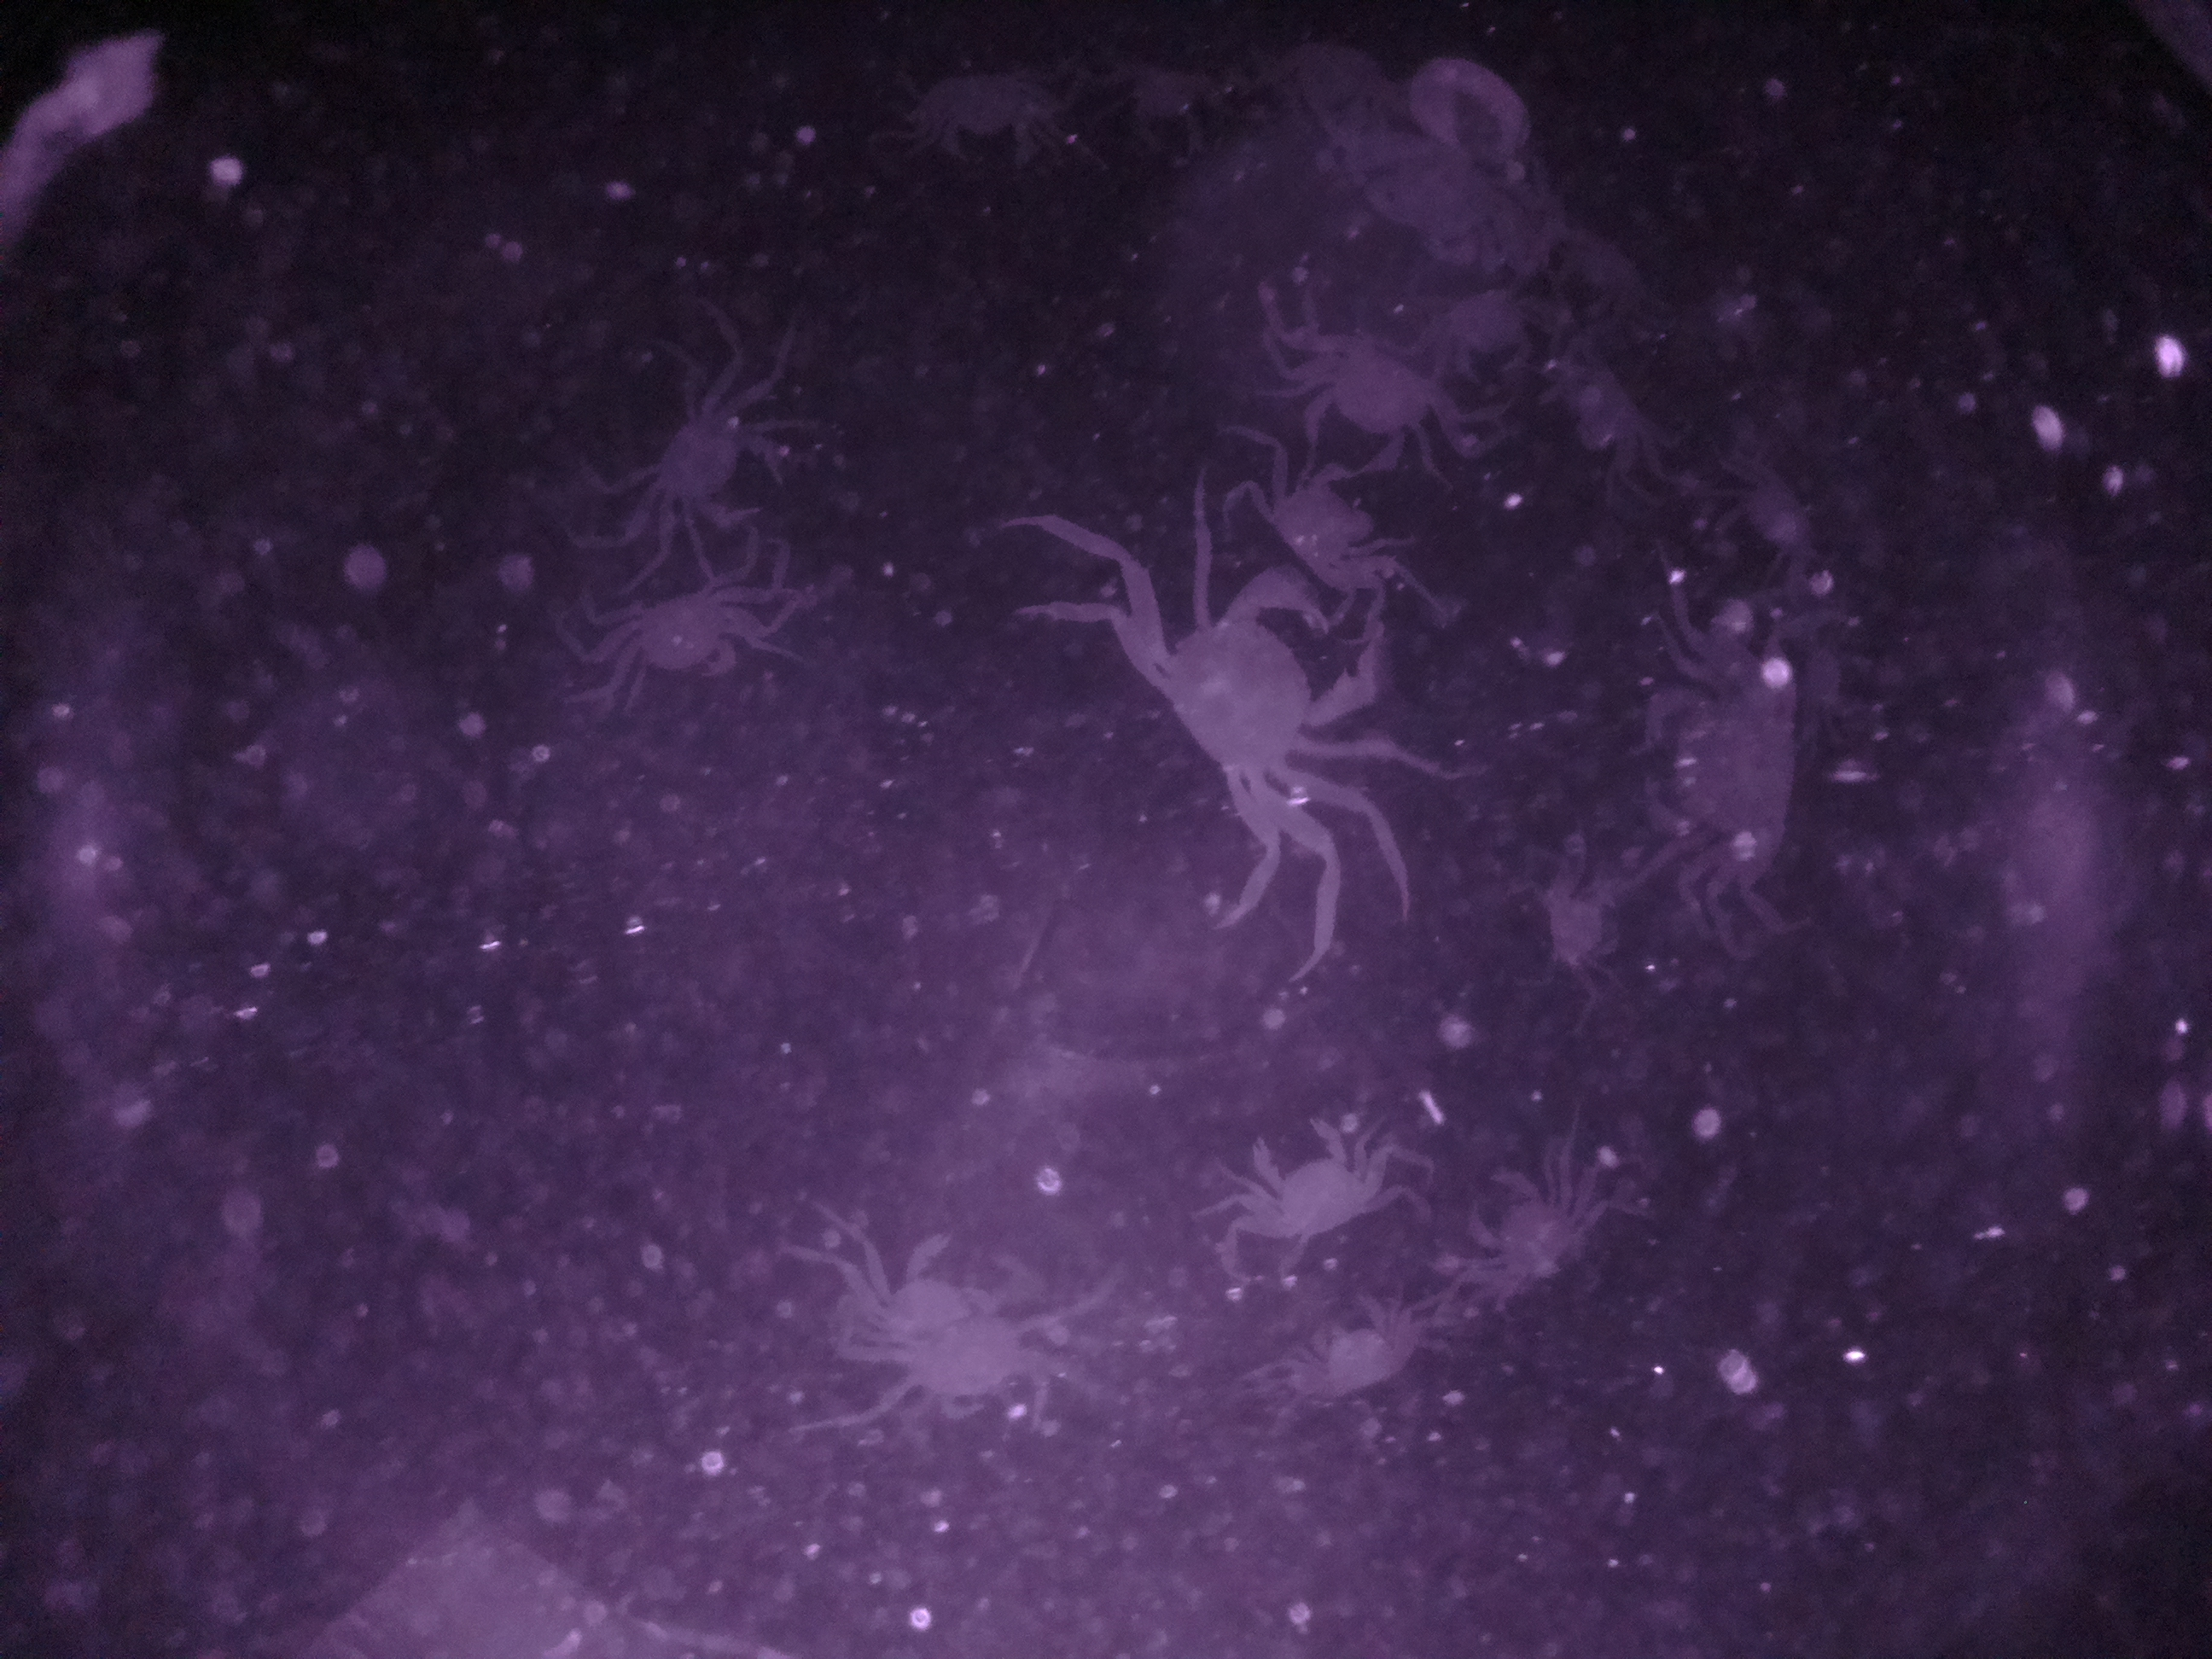Crab: (1101, 558, 1407, 838), (1275, 314, 1491, 491), (629, 380, 805, 544), (1231, 1098, 1397, 1265), (603, 580, 775, 683)
